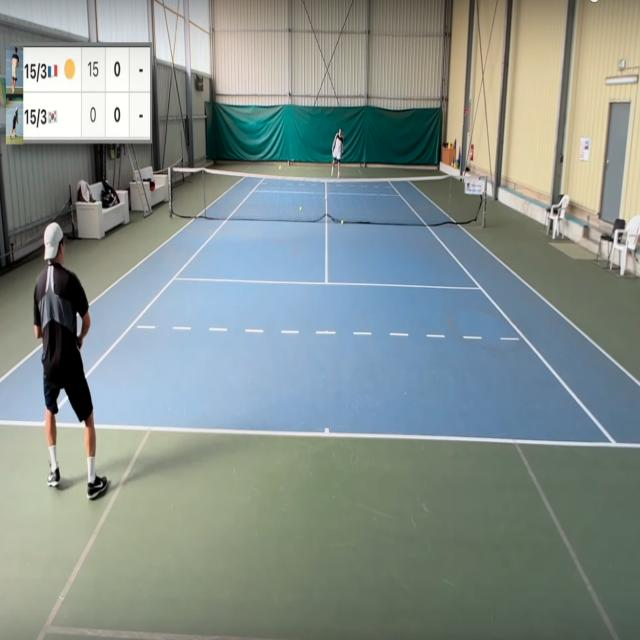ball: (278, 164, 282, 170), (341, 220, 344, 226), (300, 206, 302, 211)
